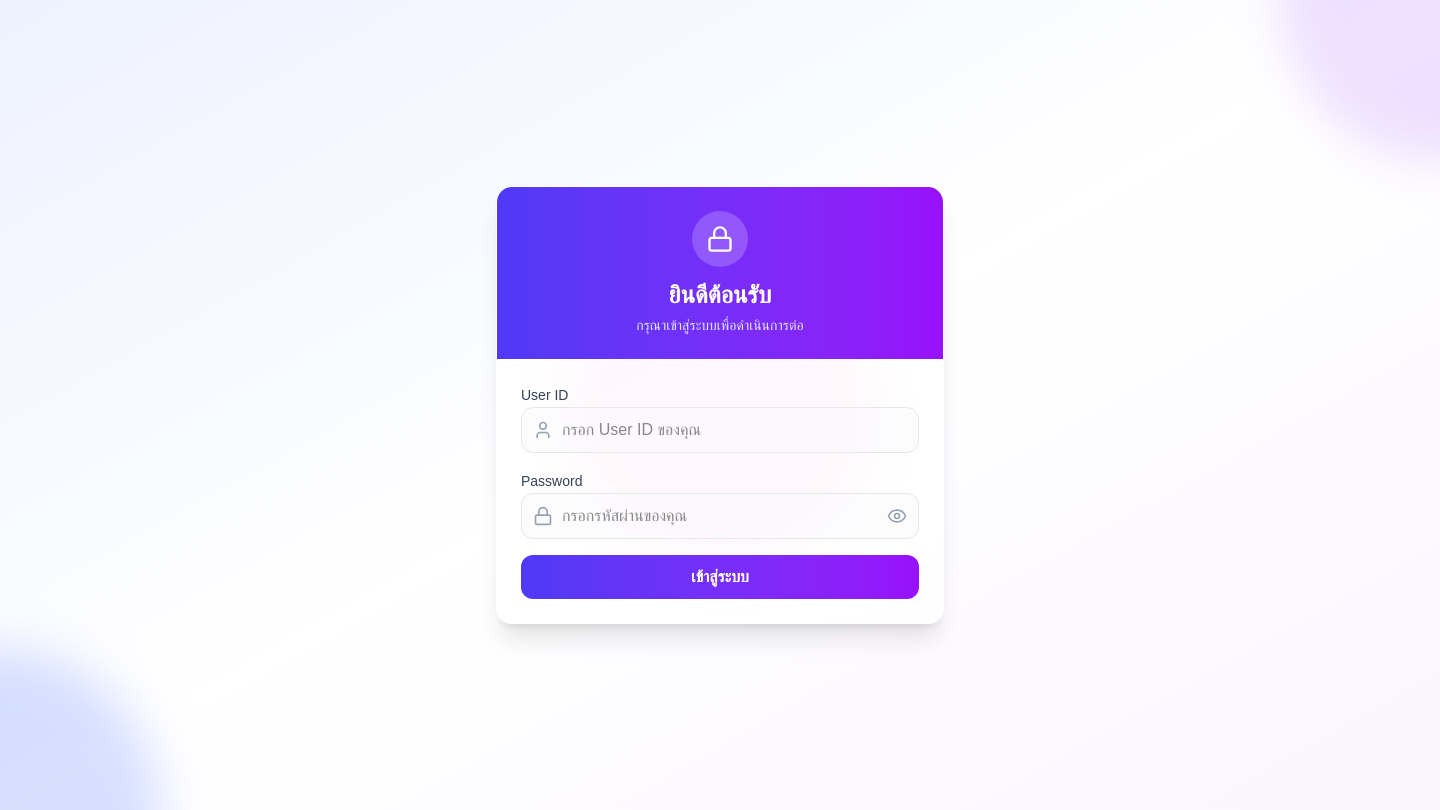
Login Component › 6. should toggle password visibility
Click the button named "แสดงรหัสผ่าน". click: (897, 516)
box: [887,506,907,526]
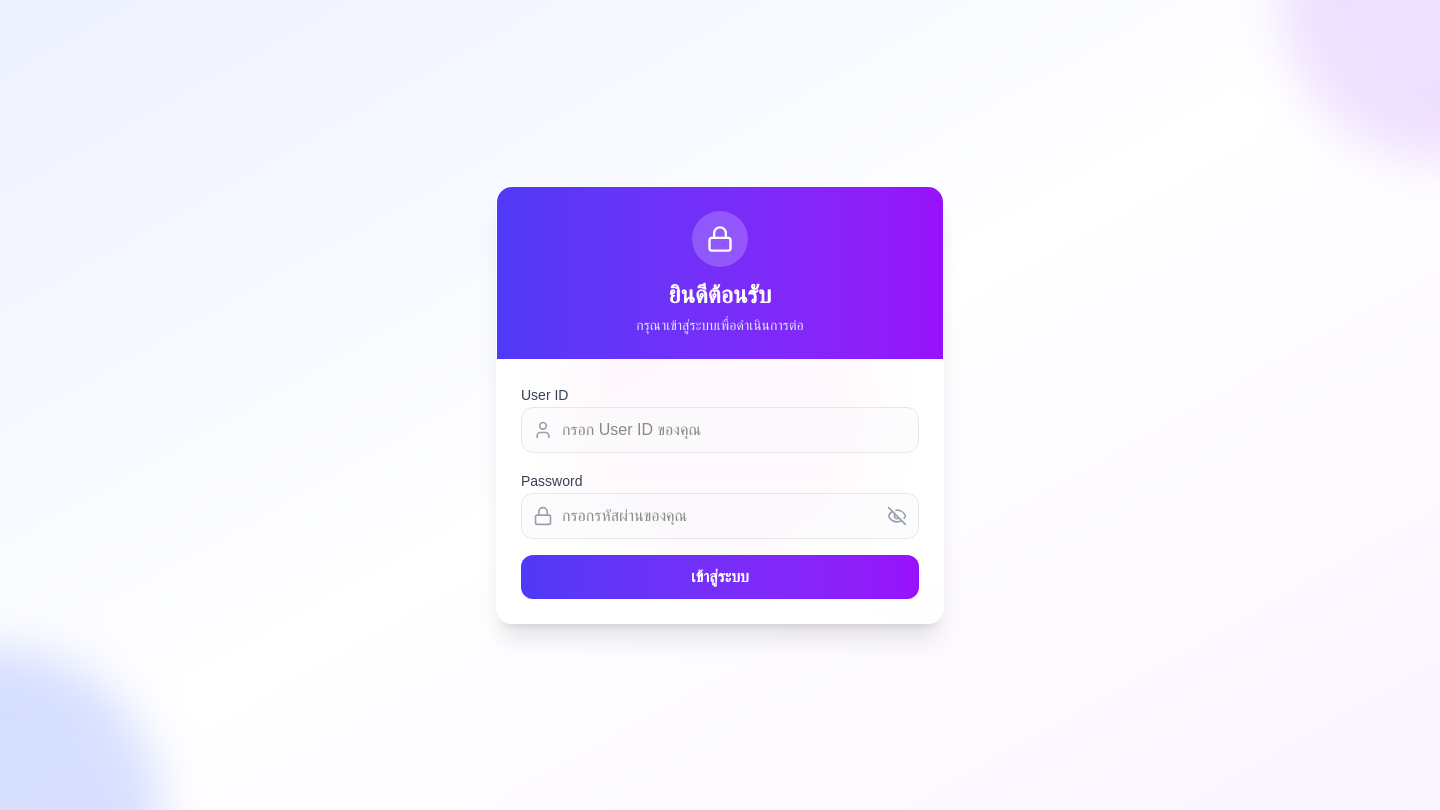
Check: the button named "ซ่อนรหัสผ่าน" is shown, box [887,506,907,526]
